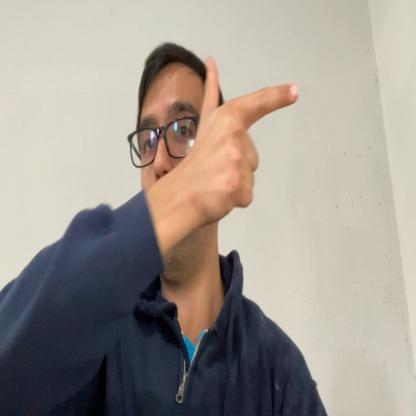G: (194, 53, 299, 225)
